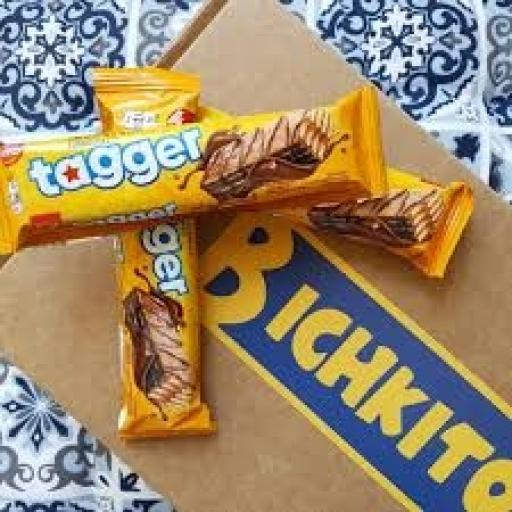tagger: (0, 86, 388, 243), (65, 234, 308, 482)
